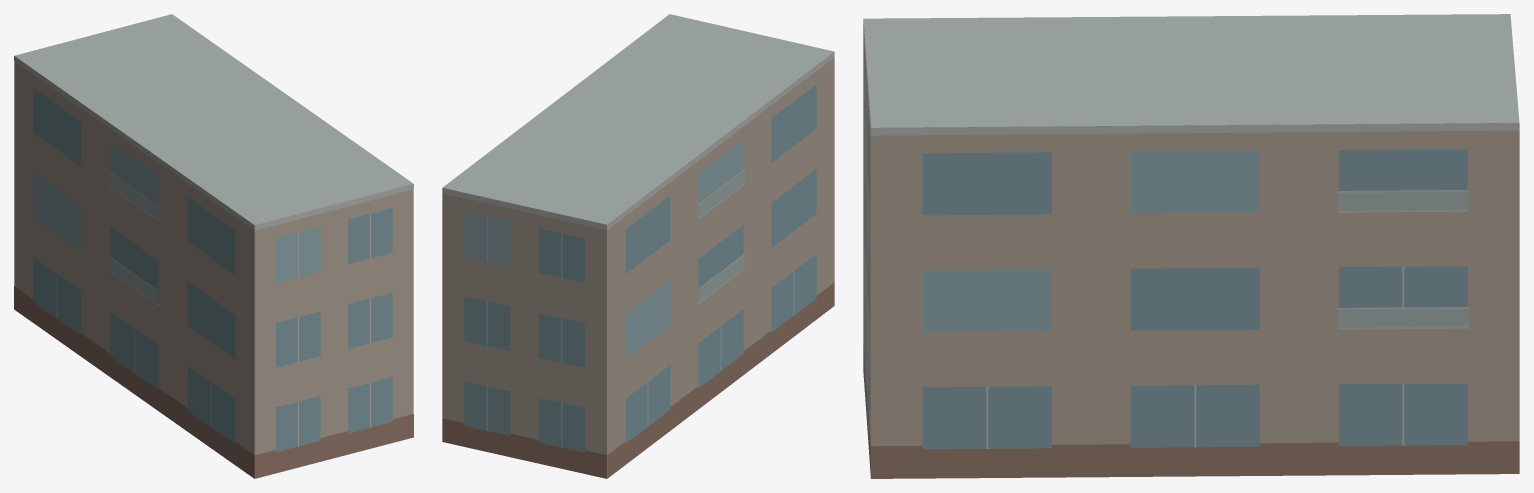
File: survey-upis-32760806.glb
The picture shows the model from 3 angles, left to right: view 1: azimuth 30°, elevation 25°; view 2: azimuth 150°, elevation 25°; view 3: azimuth 270°, elevation 25°; orthographic projection. The views are drawn at different scales.
Visible parts, largest first — view 1: survey-upis-32760806.tmp; view 2: survey-upis-32760806.tmp; view 3: survey-upis-32760806.tmp.
Boxes of the visible parts, <box> form: survey-upis-32760806.tmp: <box>14,14,413,478</box>; survey-upis-32760806.tmp: <box>442,14,834,478</box>; survey-upis-32760806.tmp: <box>863,14,1519,478</box>.
Bounding box in the file's own units: 7.73 × 11.1 × 18.82.
